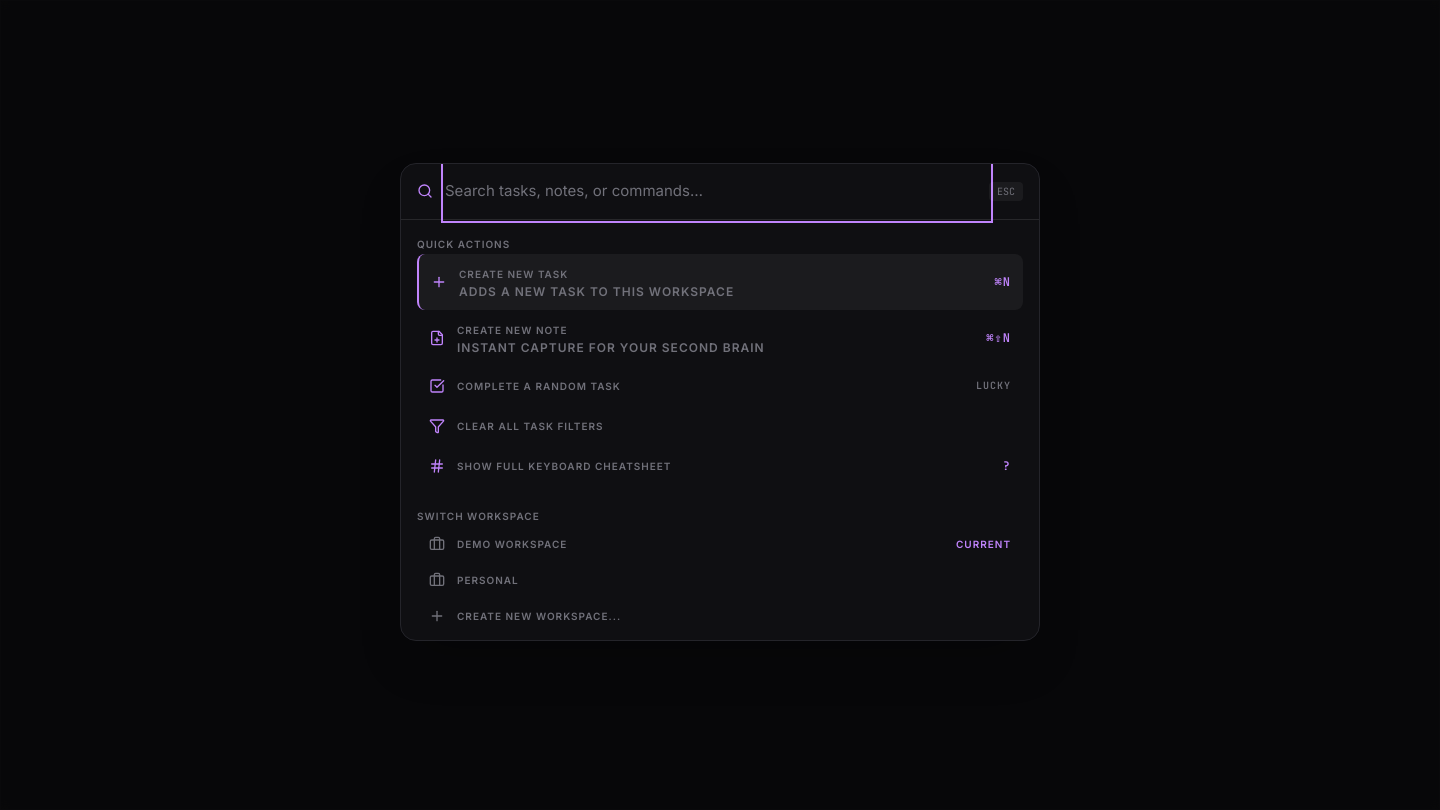
Test case: CommandPalette — M0 basic RTL tests (open, search, create task via palette) › search / typing in input updates query and shows empty state for no matches
The width and height of the screenshot is (1440, 810).
In the dropdown with placeholder "Search tasks, notes, or commands…": (717, 191) 445,164 -> 989,218, type "nonexistentxyz123"
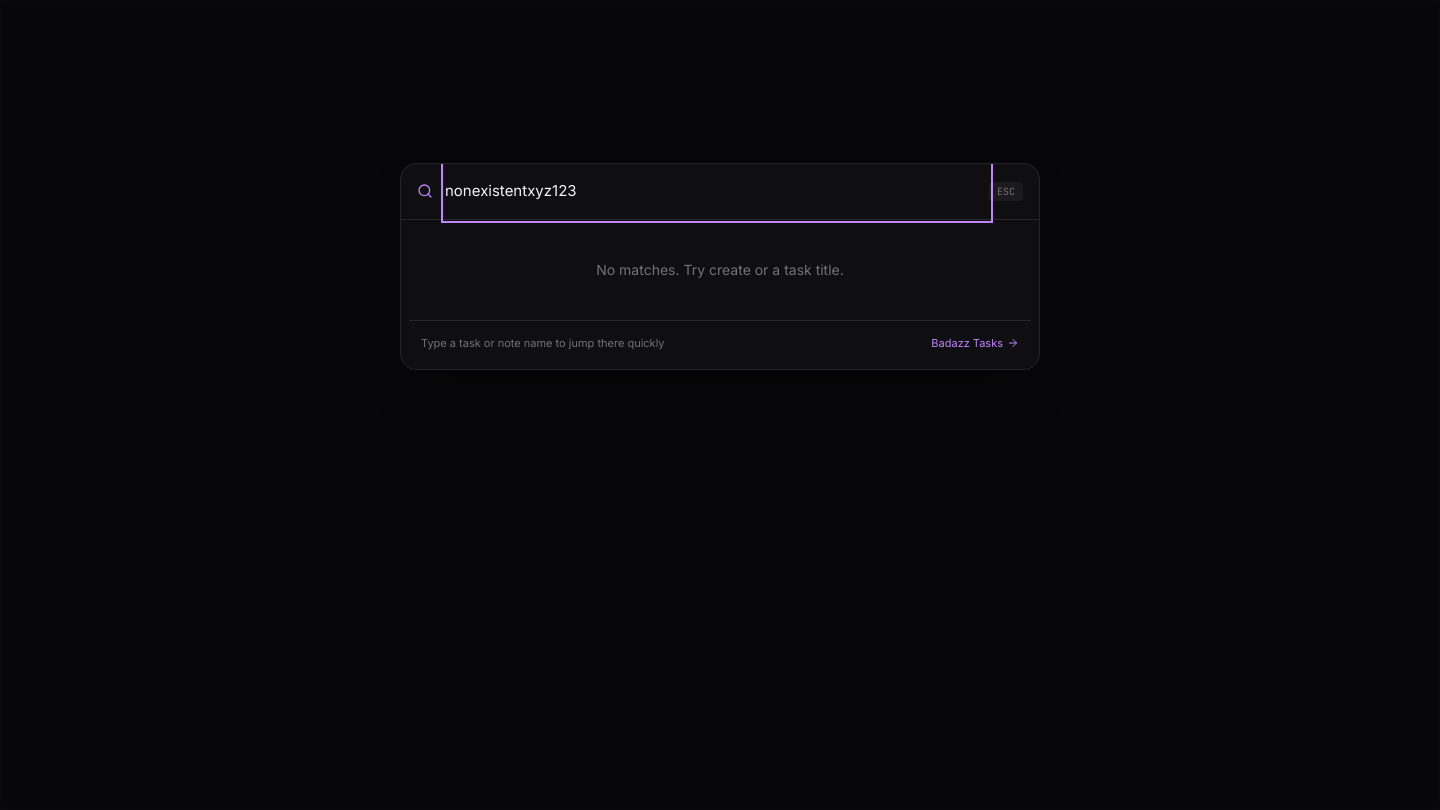
expect the text "No matches. Try create or a task title." is shown: met, box 596,260 -> 844,278
